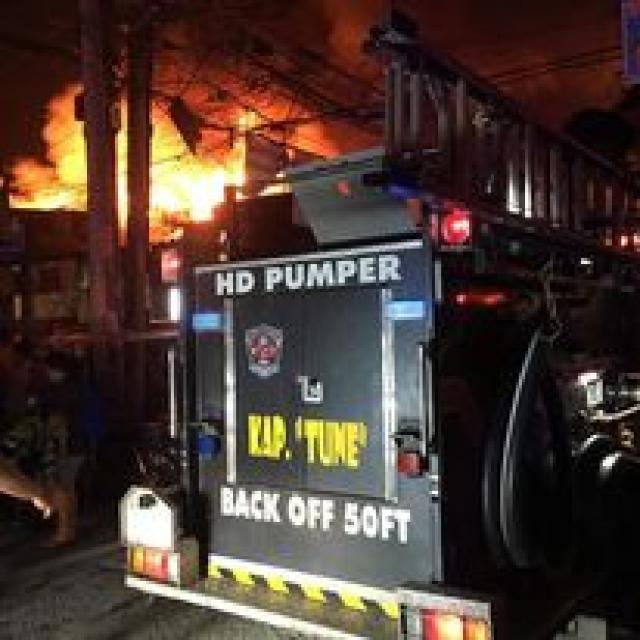Fire: (151, 152, 234, 220)
Smoke: (10, 88, 77, 182)
